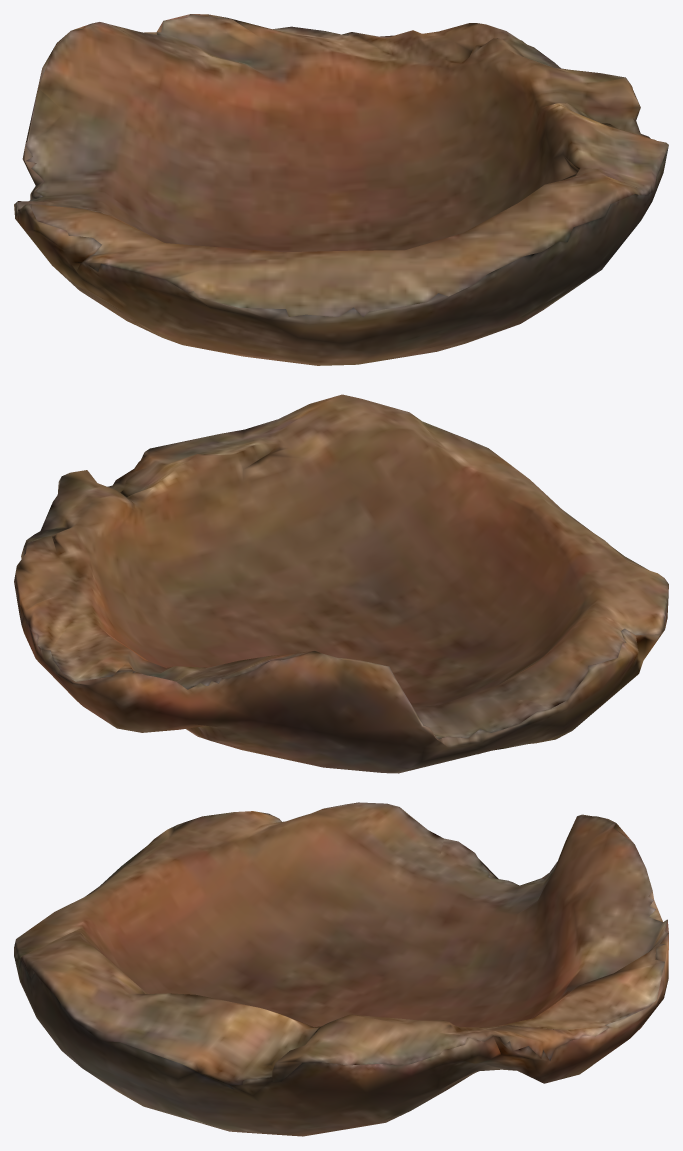
The model's file is wooden_bowl_01.l.d75efd42.glb.
3 renders of one model, top to bottom at view 1: azimuth 30°, elevation 25°; view 2: azimuth 150°, elevation 25°; view 3: azimuth 270°, elevation 25°, orthographic. The views are drawn at different scales.
Parts seen in each view (by area): view 1: wooden_bowl_01; view 2: wooden_bowl_01; view 3: wooden_bowl_01.
Boxes of the visible parts, left/top/right/bottom form: wooden_bowl_01: left=14, top=14, right=668, bottom=365; wooden_bowl_01: left=14, top=394, right=668, bottom=773; wooden_bowl_01: left=14, top=802, right=668, bottom=1136.
Bounding box in the file's own units: 0.313 × 0.0929 × 0.3079.
Materials: 1 (1 with a texture image).
